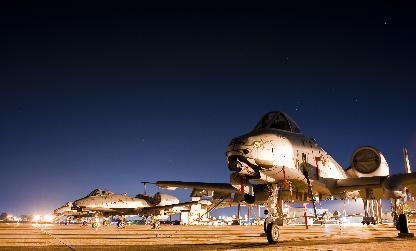A10: (141, 110, 415, 243), (70, 188, 212, 227), (52, 202, 150, 225), (300, 207, 362, 223), (256, 211, 304, 224), (214, 214, 252, 224), (192, 215, 222, 224)
